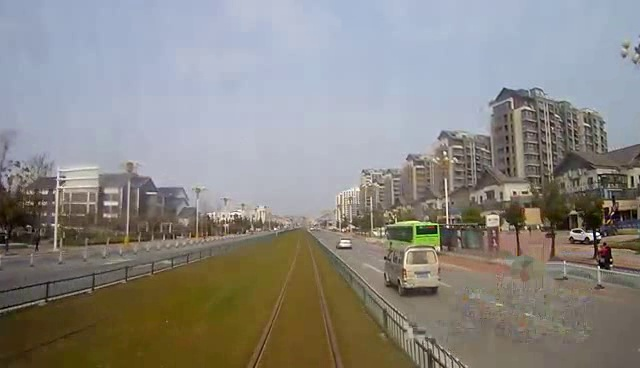bus: (383, 218, 444, 257)
car: (383, 245, 446, 297)
